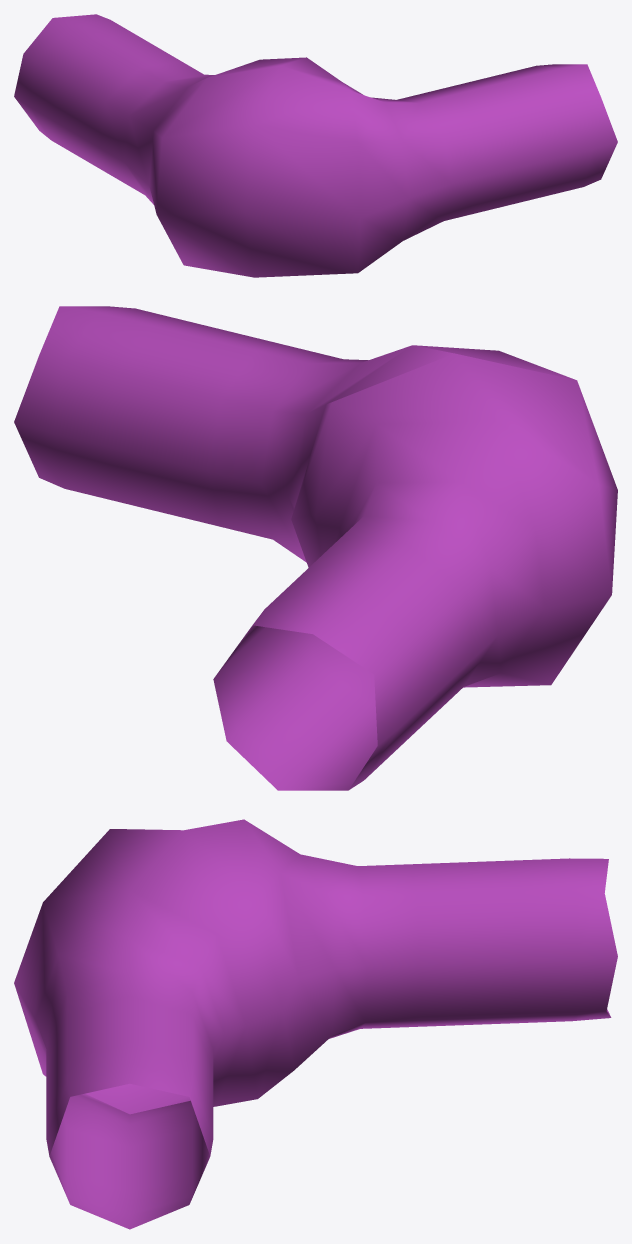
The model's file is tunnelturn.fbx.
3 views of the same model, one above another, from view 1: azimuth 30°, elevation 25°; view 2: azimuth 150°, elevation 25°; view 3: azimuth 270°, elevation 25° (orthographic). The views are drawn at different scales.
Visible parts, largest first — view 1: tunnelturn; view 2: tunnelturn; view 3: tunnelturn.
Boxes of the visible parts, x1,y1,x2,y2 form: tunnelturn: (14,14,617,277); tunnelturn: (14,306,617,790); tunnelturn: (14,819,617,1229).
Bounding box in the file's own units: 0.1757 × 0.0852 × 0.1743.
